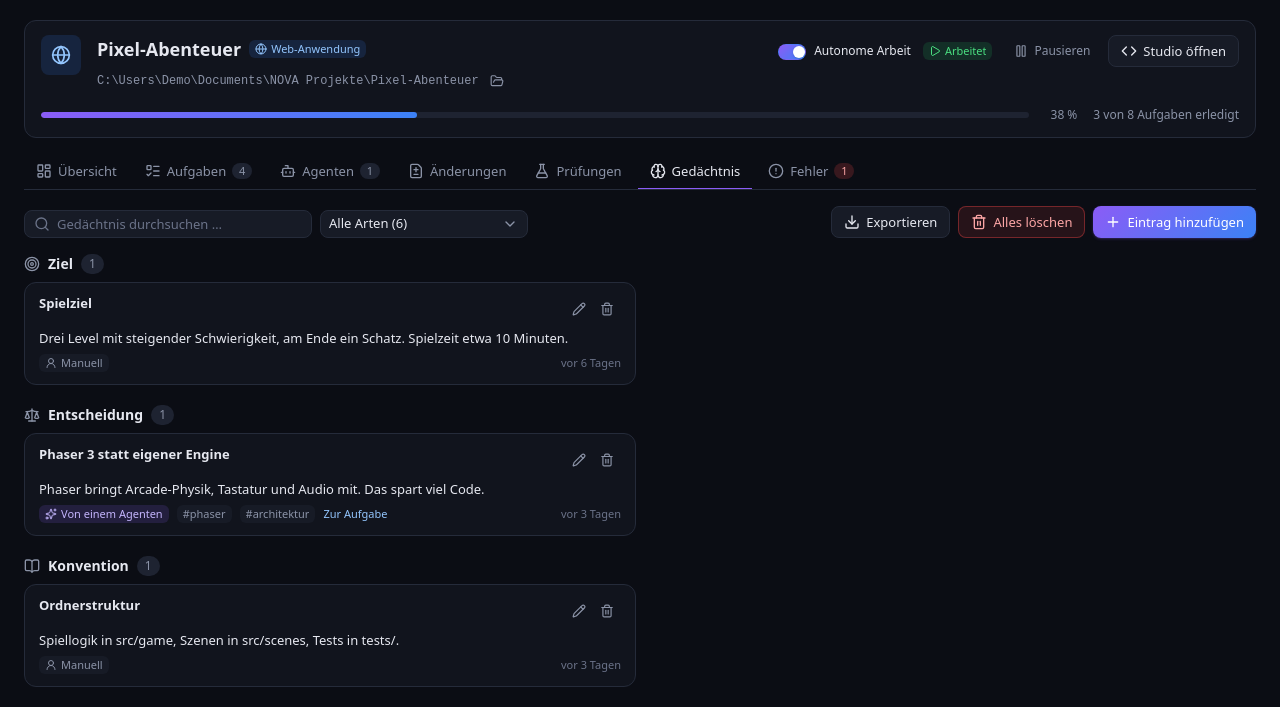
Gedächtnis › deletes an entry after confirmation
The image size is (1280, 707).
Click the button named "„Spielziel“ löschen".
click(607, 309)  # box [593,295,621,323]
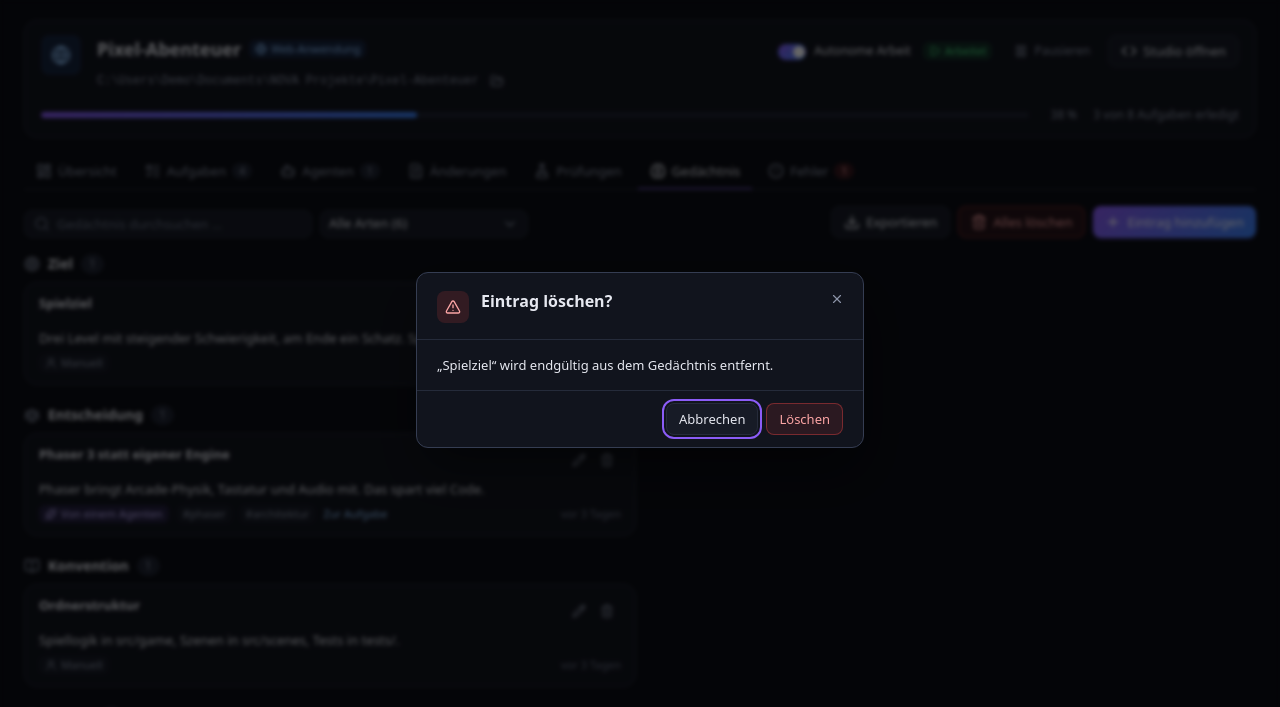
Click the button "Löschen".
click(805, 419)  # box [766,403,843,435]
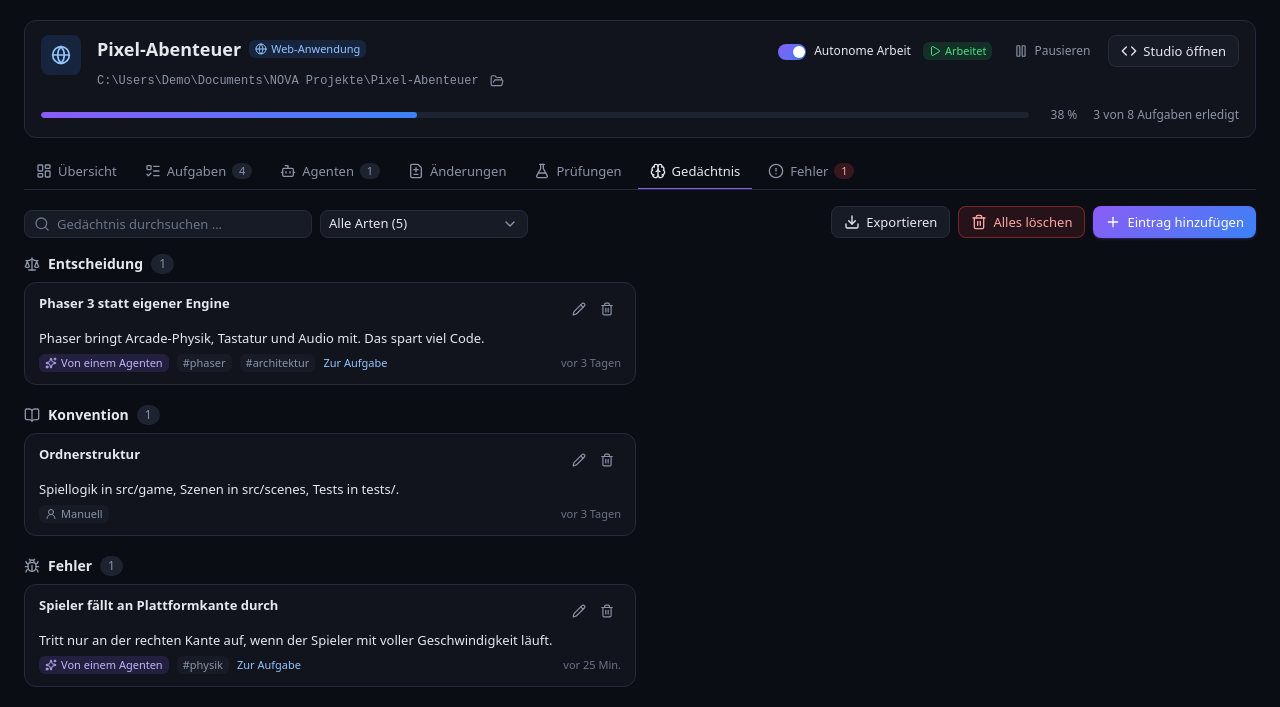
Expected: the heading "Spielziel" is gone
